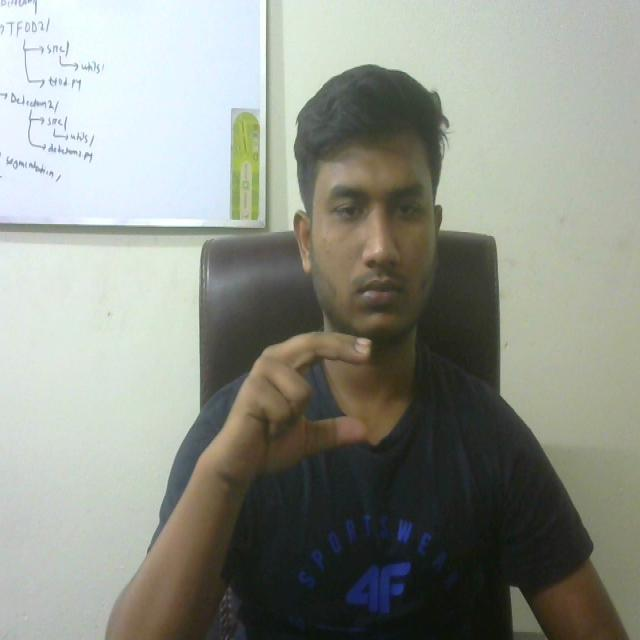No: (202, 315, 387, 499)
